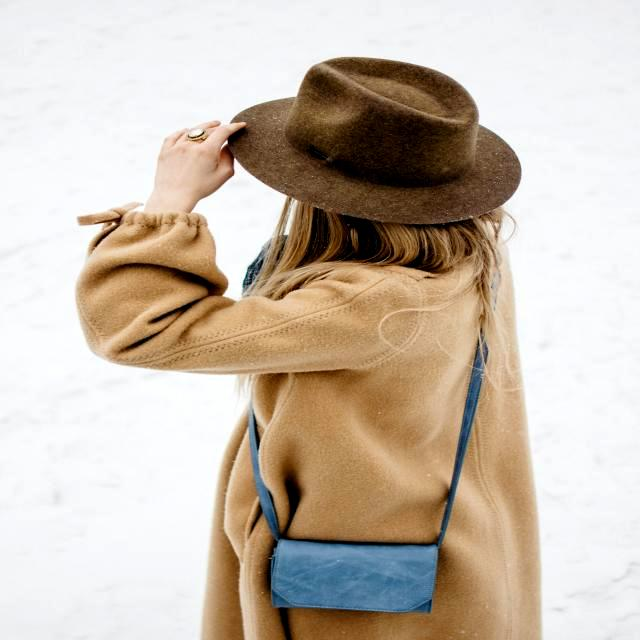no_hard_hat: (228, 58, 520, 224)
person: (77, 58, 540, 640)
